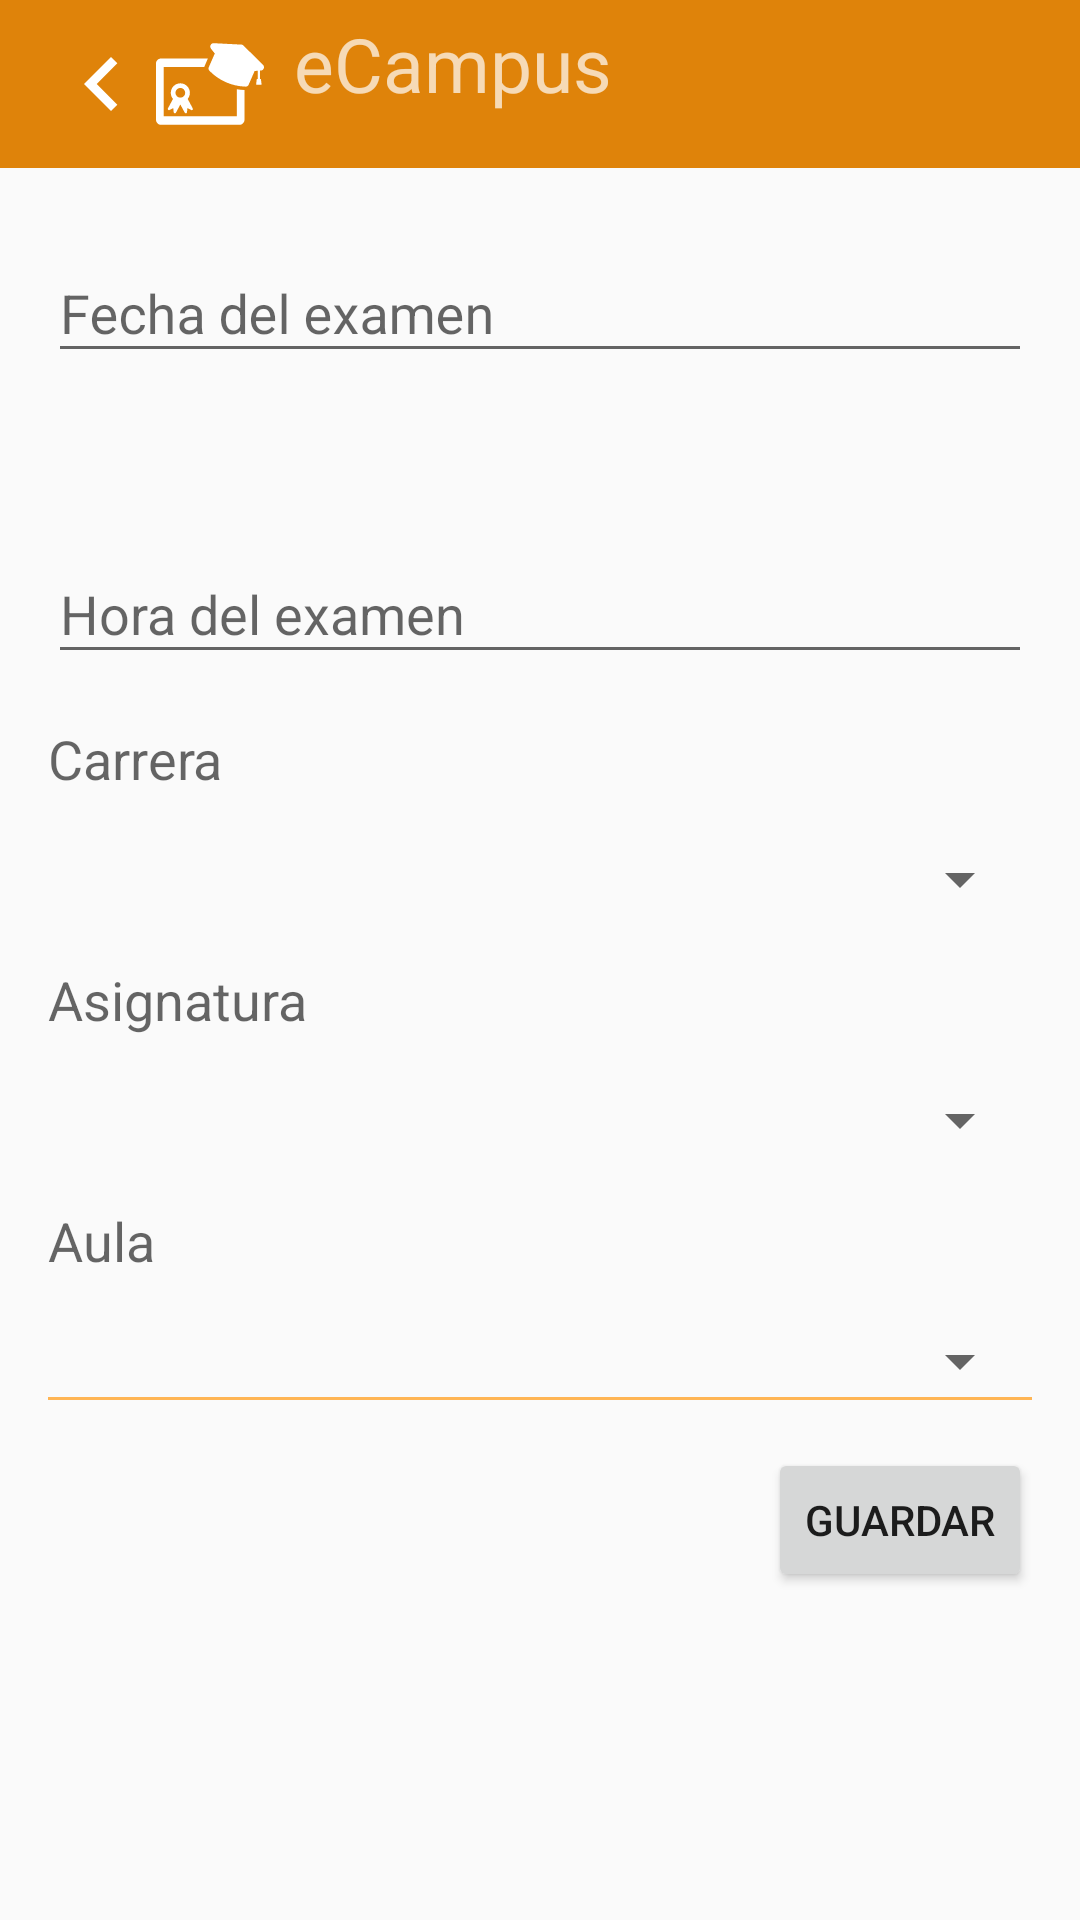

Point at icon controls on the screen. Image size 1080*1920, points as (x=x, y=y).
back toolbar: (x=101, y=84)
